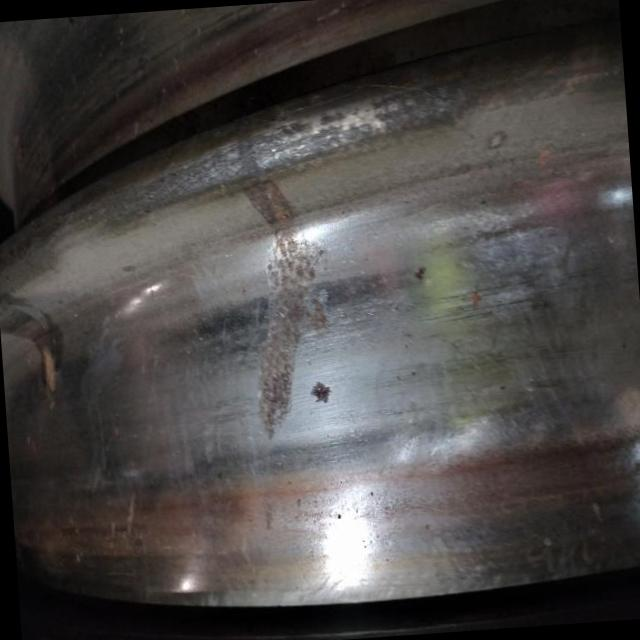Rollerpile: (241, 180, 339, 442)
